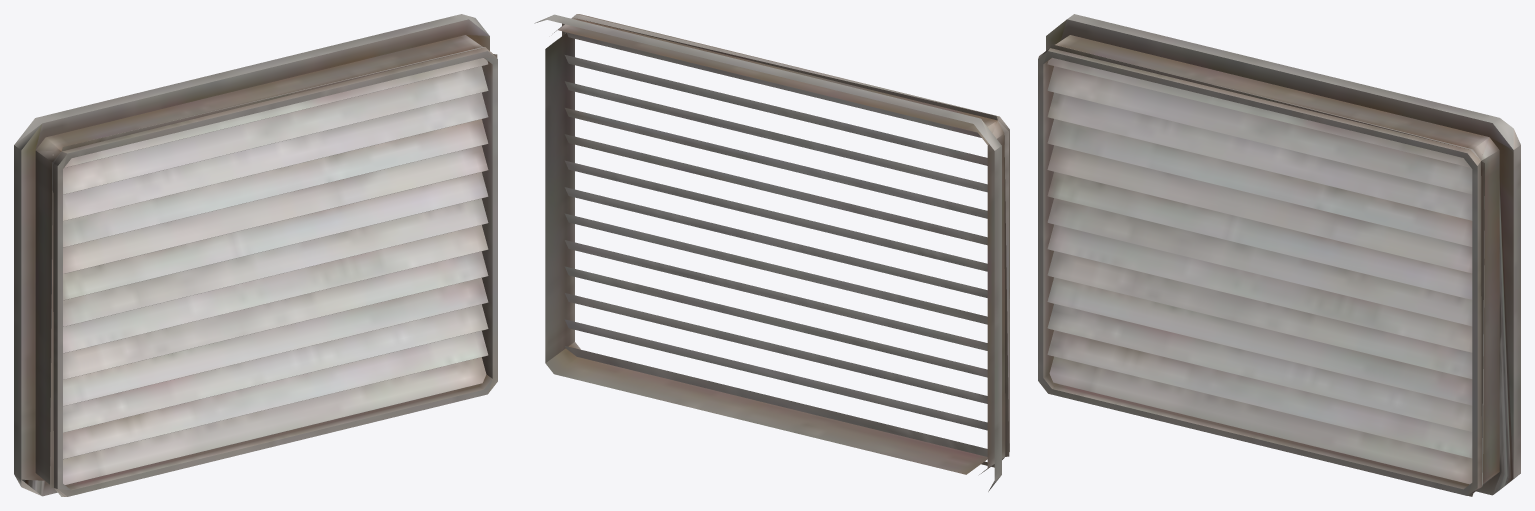
File: modular-airduct-rectangular-01-vent.glb
3 views of the same model, side by side, from view 1: azimuth 30°, elevation 25°; view 2: azimuth 150°, elevation 25°; view 3: azimuth 330°, elevation 25° (orthographic).
Parts seen in each view (by area): view 1: modular_airduct_rectangular_01_vent; view 2: modular_airduct_rectangular_01_vent; view 3: modular_airduct_rectangular_01_vent.
Boxes of the visible parts, x1,y1,x2,y2 form: modular_airduct_rectangular_01_vent: (14,14,497,496); modular_airduct_rectangular_01_vent: (534,14,1009,491); modular_airduct_rectangular_01_vent: (1038,14,1520,496).
Size of the model in its own units: 0.5521 by 0.42 by 0.0603.
1 material, 1 textured.
